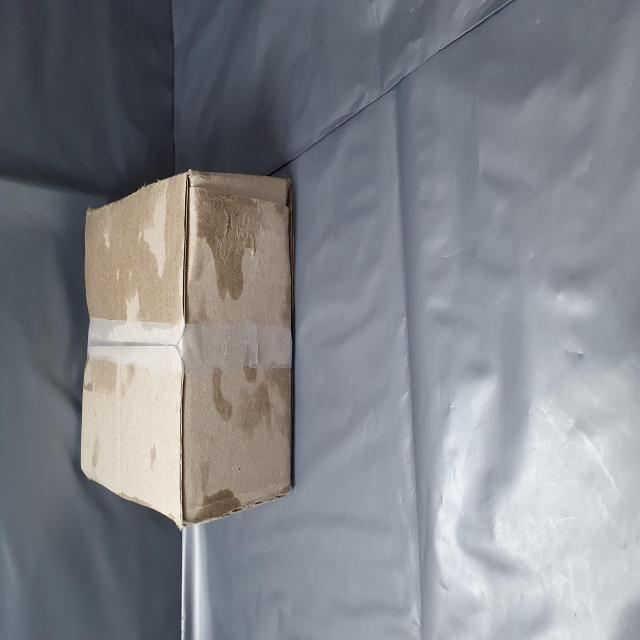wet: (177, 144, 262, 483), (72, 347, 158, 532)
